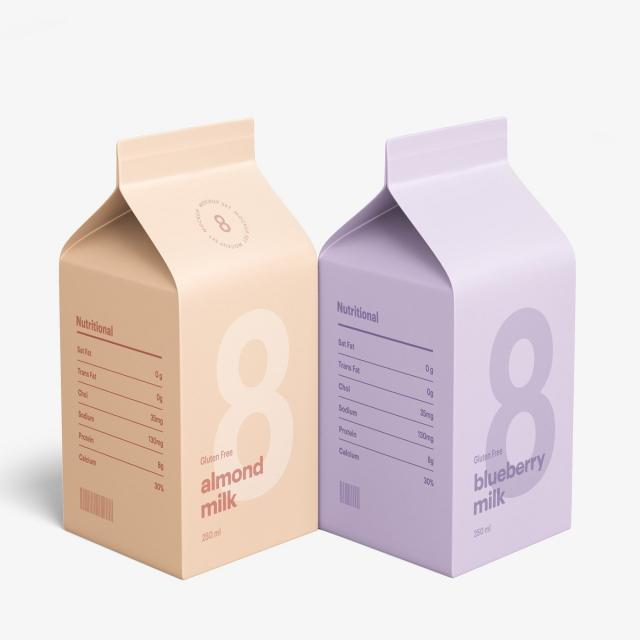non_white_jug: (57, 118, 326, 586), (312, 130, 588, 581)
